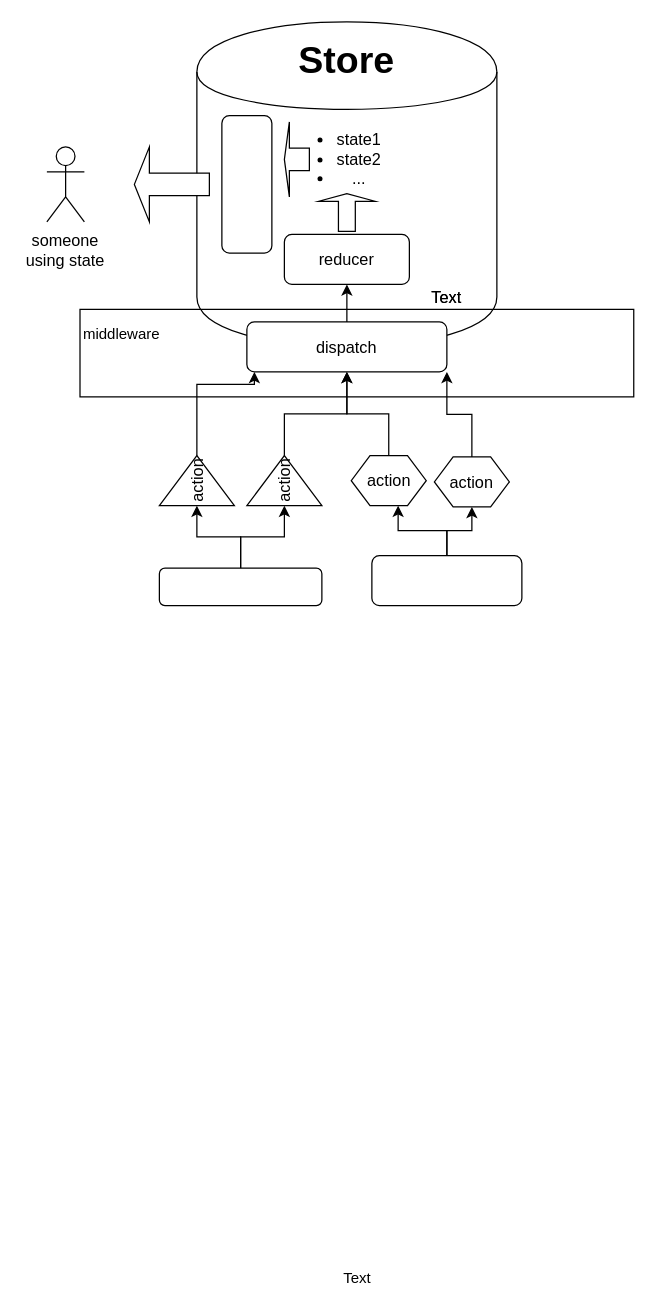
Some shapes in this 655 by 1313 pixel diagram are drawn without their labels. Here are the shapes that lost their labels. From the top down, the box of each, then its label:
(221, 114, 272, 253): subscribe
(158, 567, 322, 606): actionCreator1
(371, 554, 522, 606): actionCreator2
